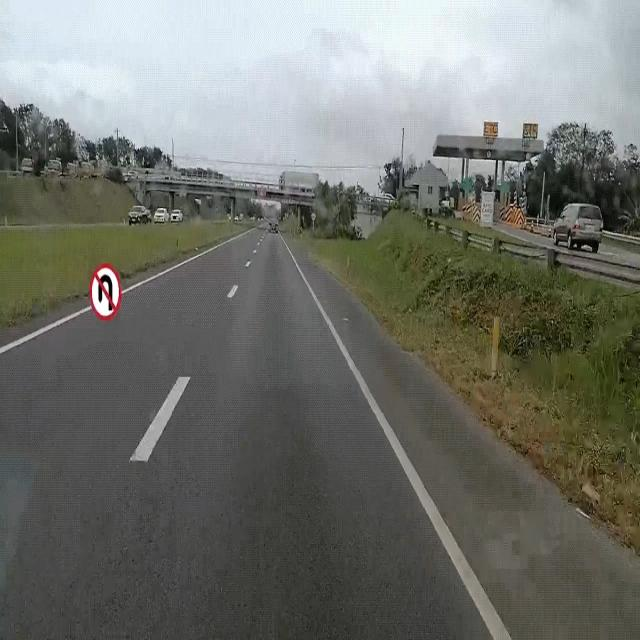Demi-Tour-Interdit: (84, 255, 126, 332)
